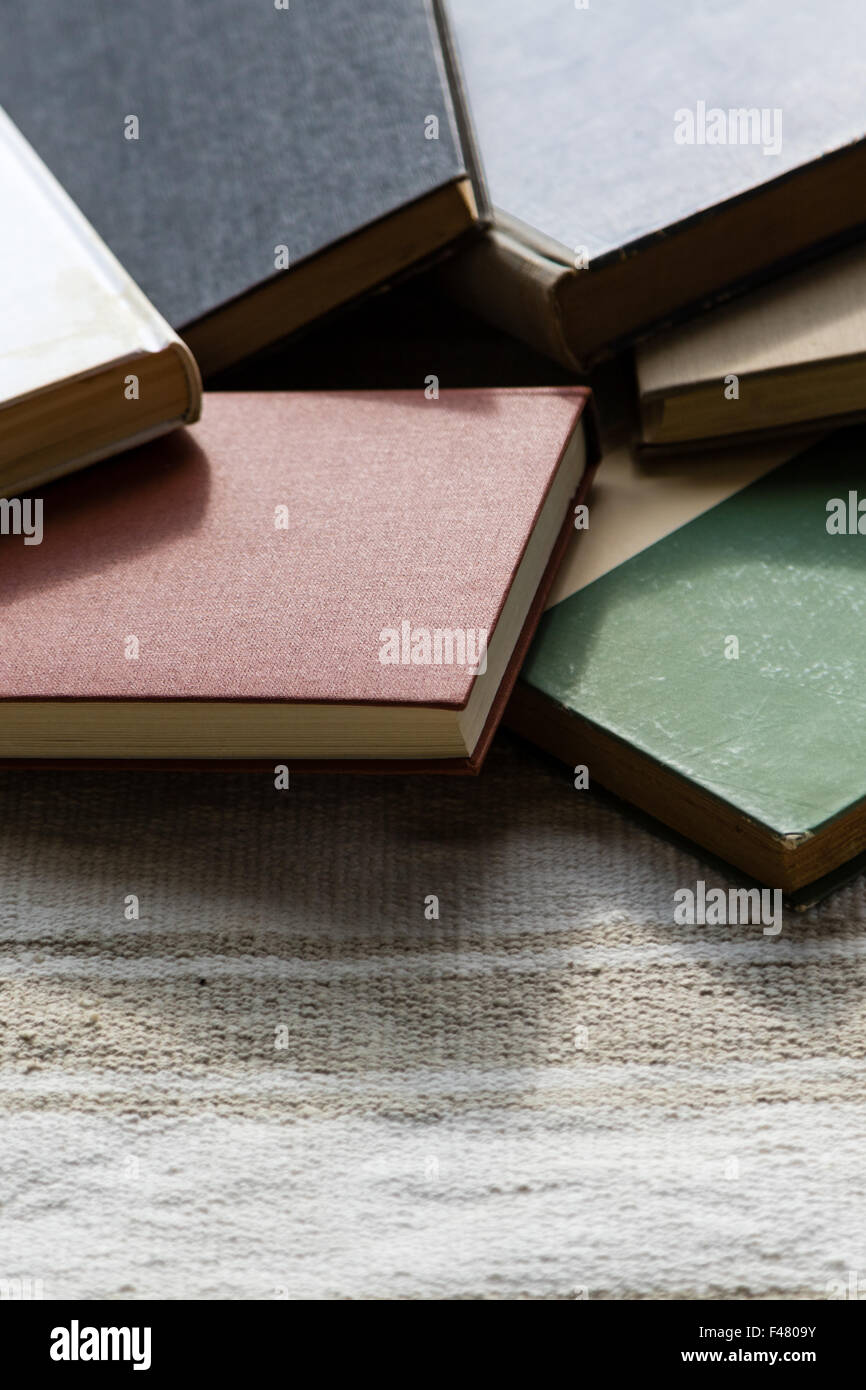book: (4, 6, 866, 948)
